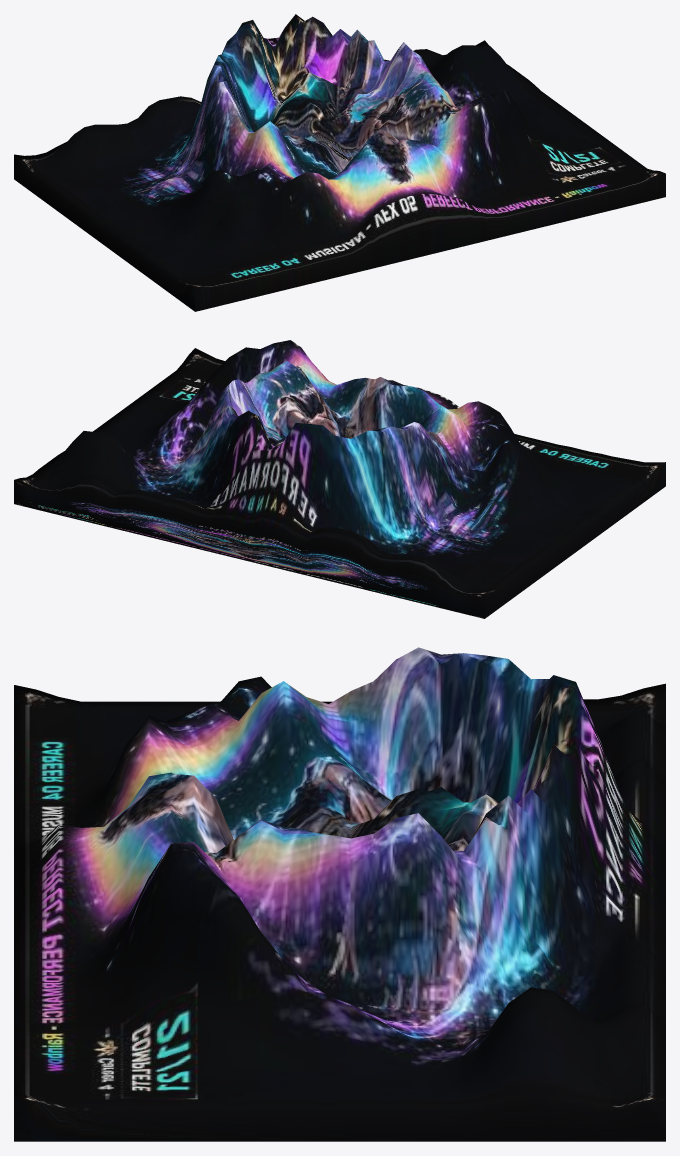
File: CAREER_04_VFX_05_Perfect.glb
3 renders of one model, top to bottom at view 1: azimuth 30°, elevation 25°; view 2: azimuth 150°, elevation 25°; view 3: azimuth 270°, elevation 25°, orthographic. The views are drawn at different scales.
Visible parts, largest first — view 1: CAREER_04_VFX_05_Perfect; view 2: CAREER_04_VFX_05_Perfect; view 3: CAREER_04_VFX_05_Perfect.
Boxes of the visible parts, <box> form: CAREER_04_VFX_05_Perfect: <box>14,14,665,311</box>; CAREER_04_VFX_05_Perfect: <box>14,340,665,618</box>; CAREER_04_VFX_05_Perfect: <box>14,647,665,1141</box>.
Size of the model in its own units: 2 by 0.51 by 1.33.
Materials: 1 (1 with a texture image).
